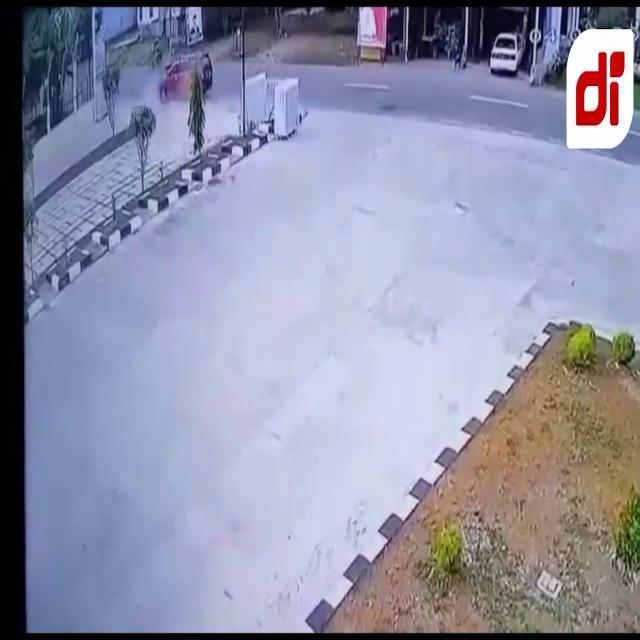single accident: (130, 56, 220, 104)
